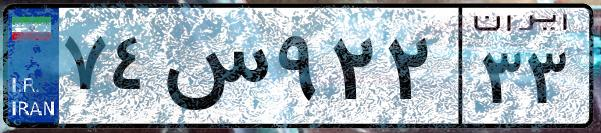2: (385, 28, 445, 110), (330, 28, 385, 110)
3: (475, 38, 525, 113), (525, 38, 570, 115)
4: (110, 28, 158, 98)
7: (57, 26, 110, 100)
9: (270, 28, 330, 110)
س: (158, 20, 270, 120)
